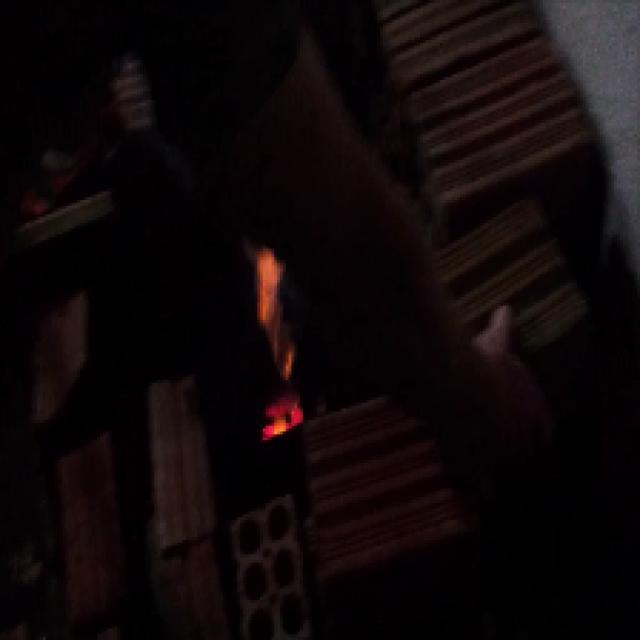Fire: (246, 242, 302, 435)
